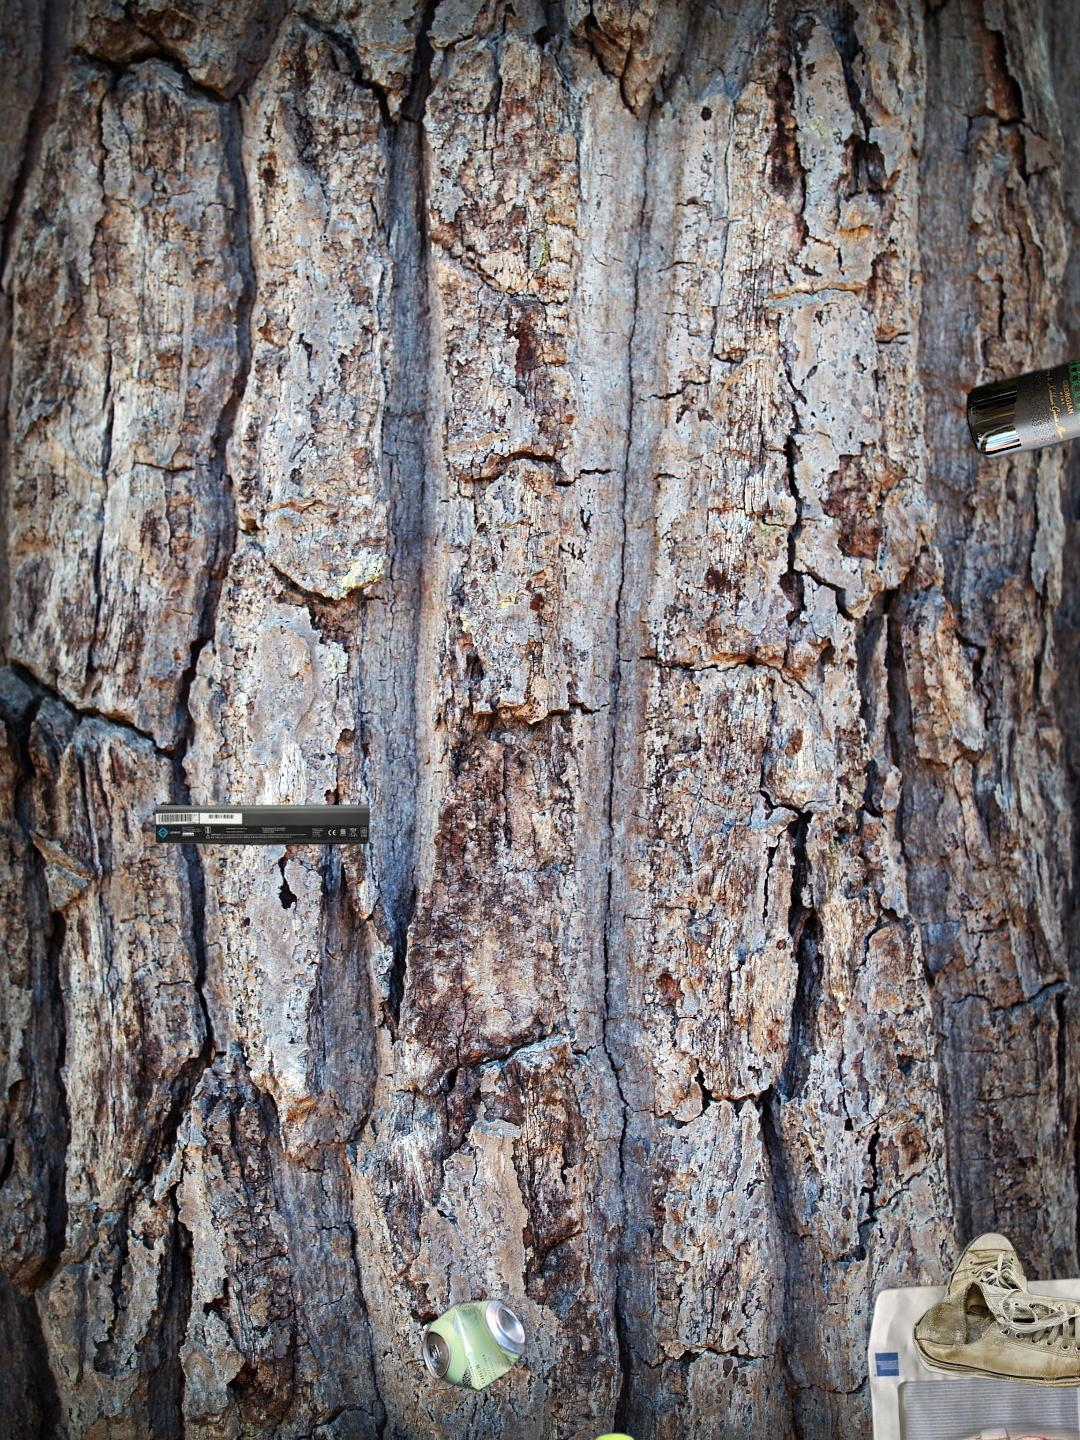battery: (152, 802, 373, 848)
biological: (679, 1190, 1080, 1440)
glass: (961, 332, 1080, 465)
metal-cans: (417, 1293, 530, 1397)
paper: (862, 1266, 1080, 1440)
penholder: (315, 1398, 906, 1440)
shoes: (910, 1229, 1080, 1391)
